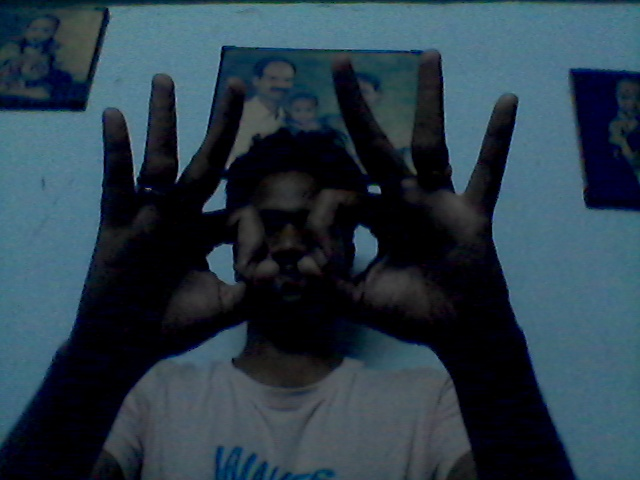How are you: (71, 48, 529, 362)
